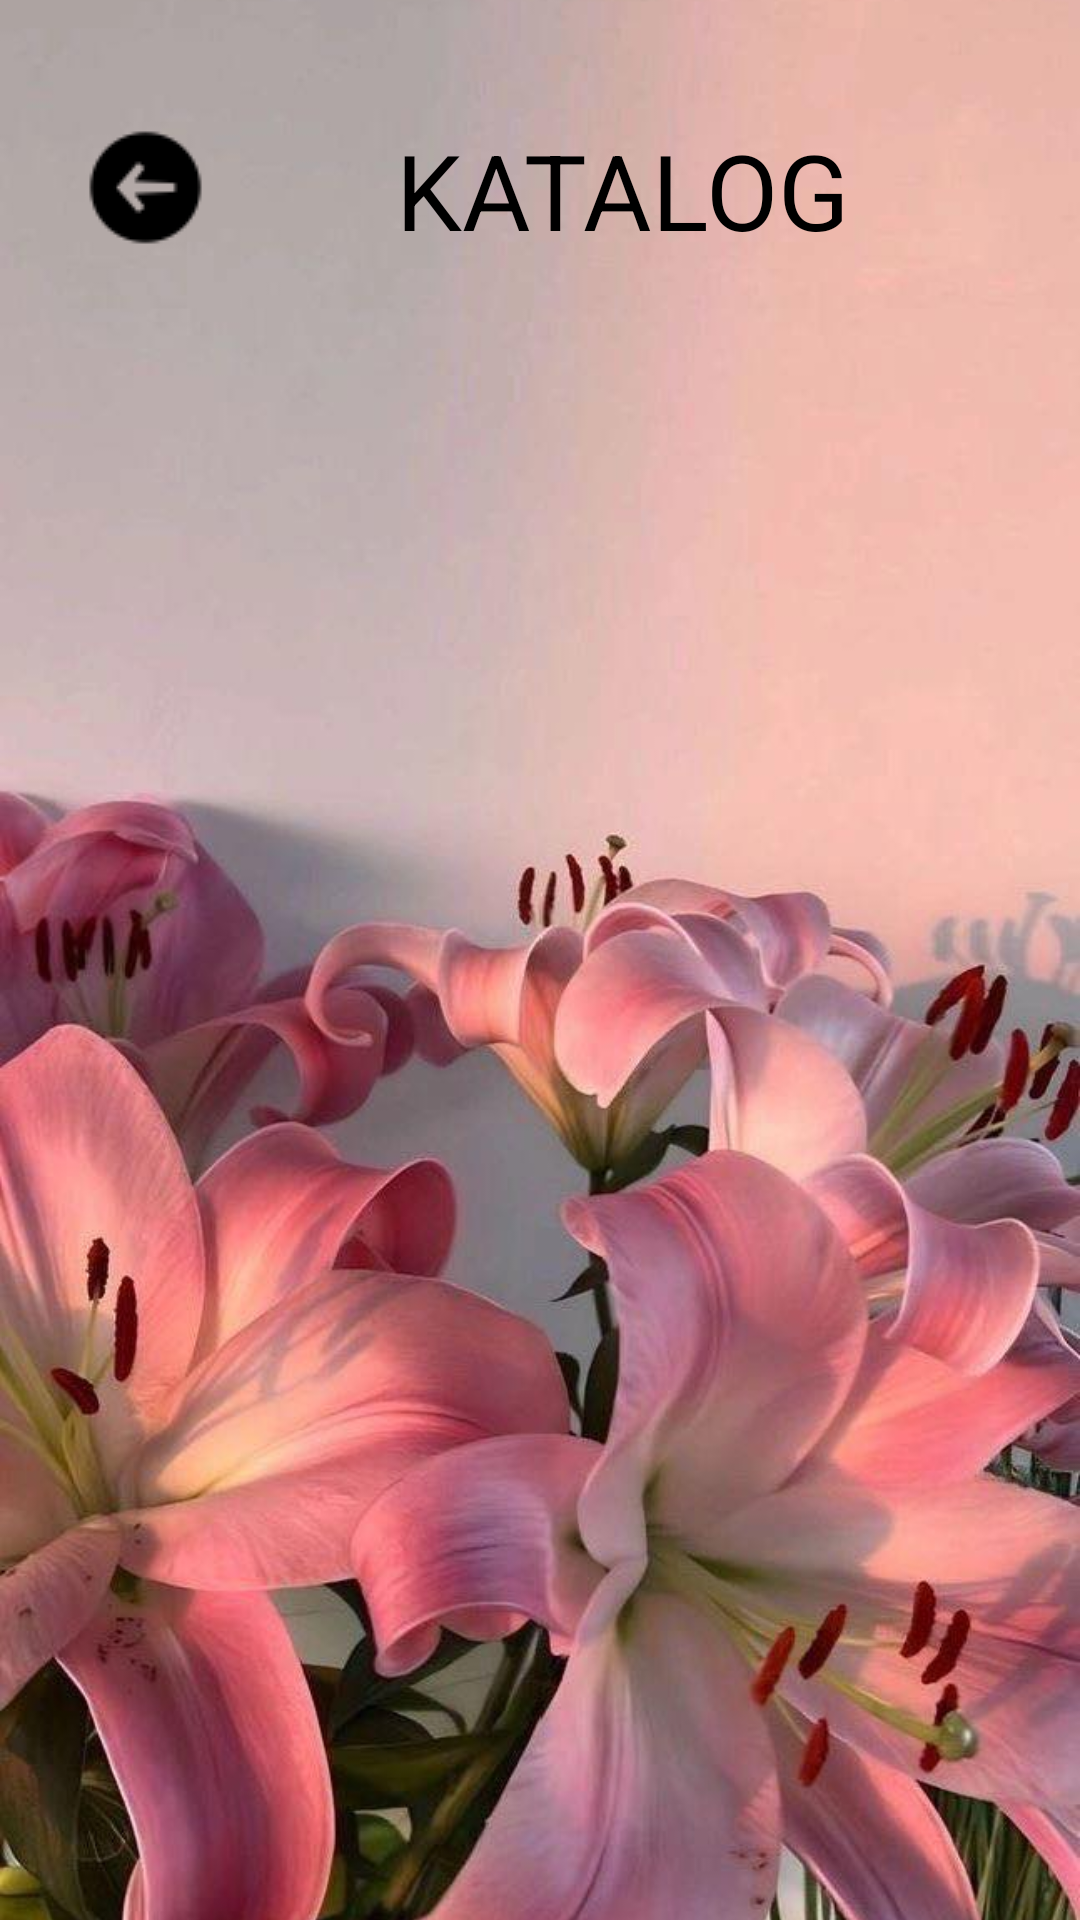

Icon bounding boxes for this 1080px x 1920px phone screenshot, format (x1, y1, x2, y2):
Powrót do poprzedniej karty!: (89, 131, 202, 244)
